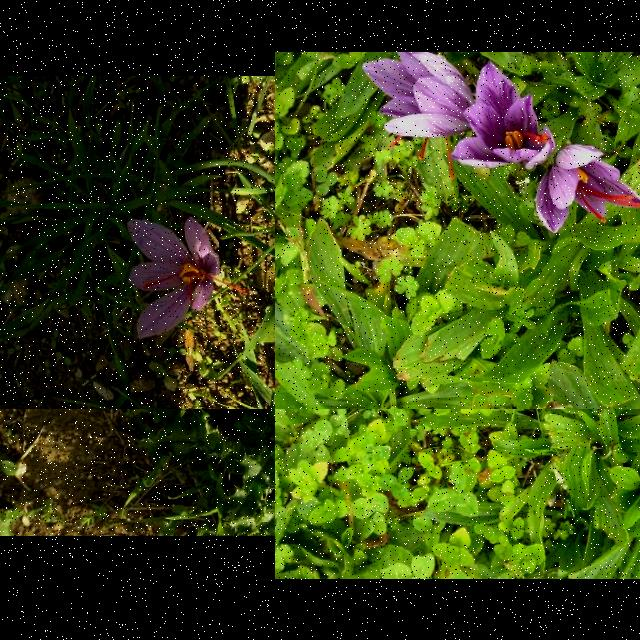flower: (128, 218, 248, 342), (363, 54, 475, 182), (452, 62, 556, 170), (536, 144, 640, 234)
